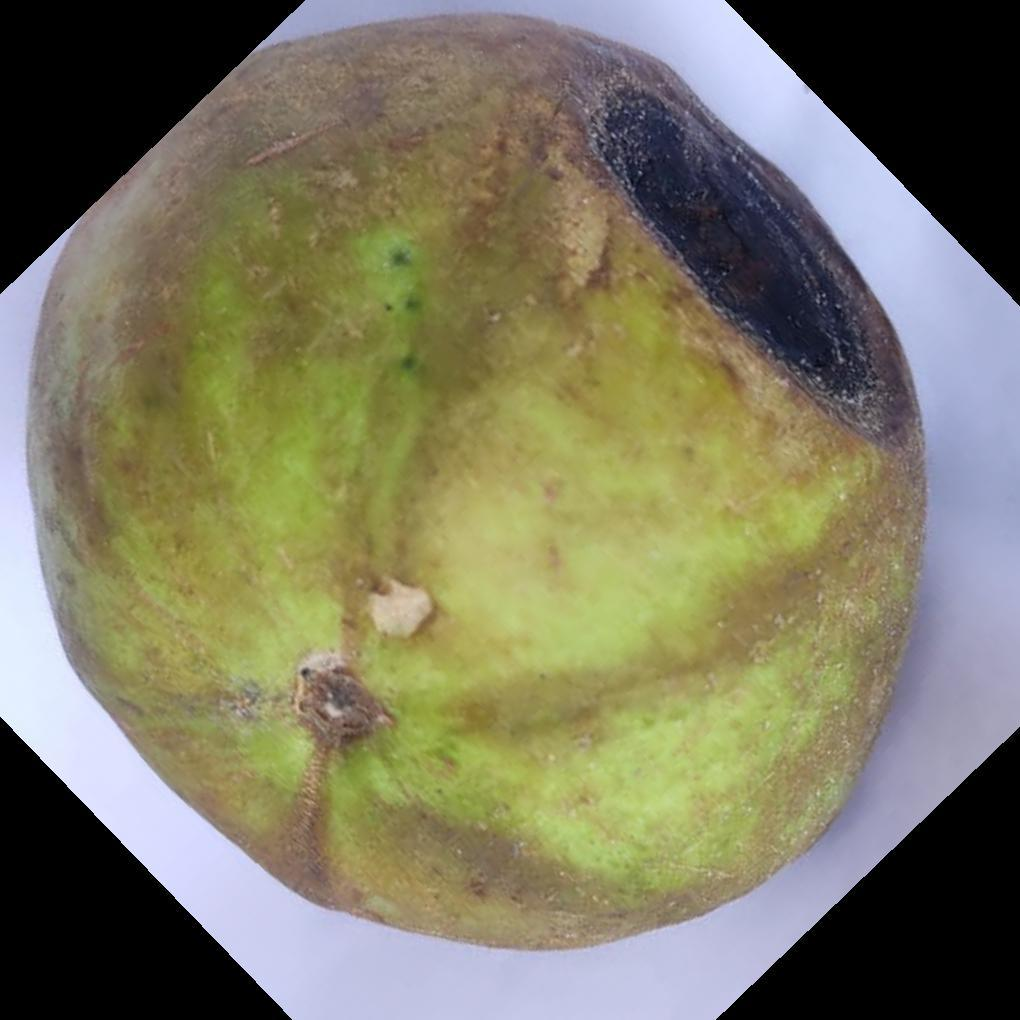FreshOrange: (25, 15, 928, 957)
